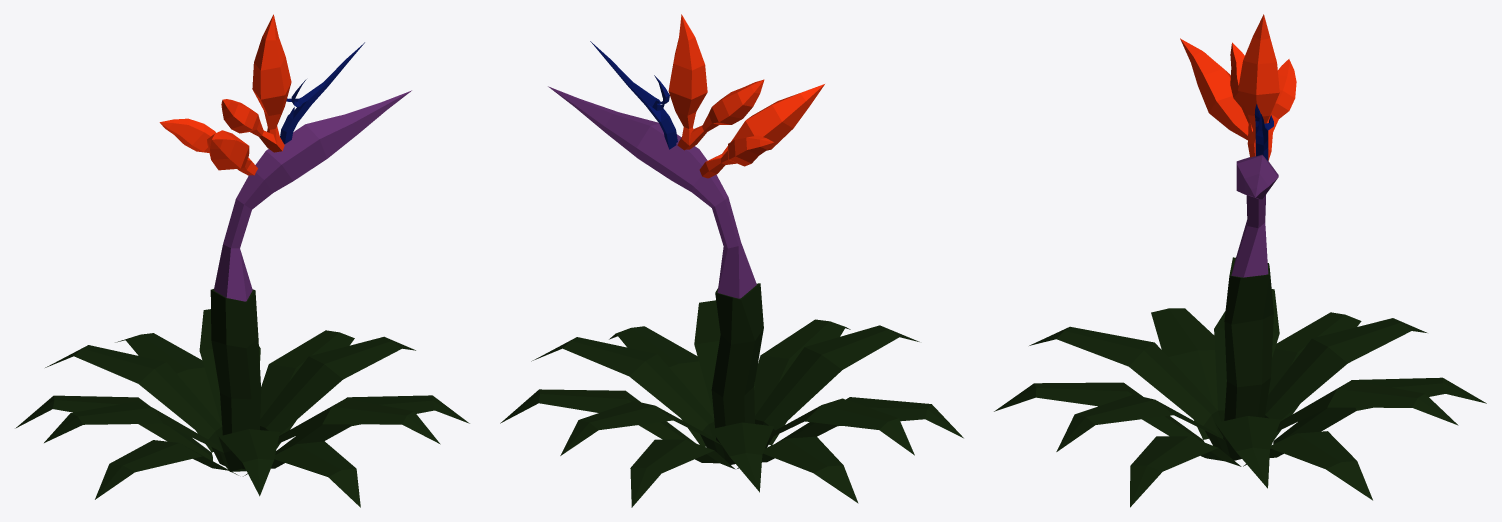
The model's file is flowerTest1.obj.
3 renders of one model, left to right at view 1: azimuth 30°, elevation 25°; view 2: azimuth 150°, elevation 25°; view 3: azimuth 270°, elevation 25°, orthographic. The views are drawn at different scales.
Visible parts, largest first — view 1: Plane, Cylinder, Cylinder.002, Cylinder.001; view 2: Plane, Cylinder.002, Cylinder, Cylinder.001; view 3: Plane, Cylinder.002, Cylinder, Cylinder.001.
Boxes of the visible parts, x1,y1,x2,y2 form: Plane: (15,289,469,507); Cylinder: (214,90,411,301); Cylinder.002: (159,14,291,175); Cylinder.001: (280,42,364,144); Plane: (500,283,963,507); Cylinder.002: (668,14,824,178); Cylinder: (548,86,756,298); Cylinder.001: (590,41,677,149); Plane: (994,257,1486,507); Cylinder.002: (1180,14,1296,160); Cylinder: (1231,154,1278,277); Cylinder.001: (1254,104,1273,161).
Bounding box in the file's own units: 4.82 × 5.29 × 5.15.
